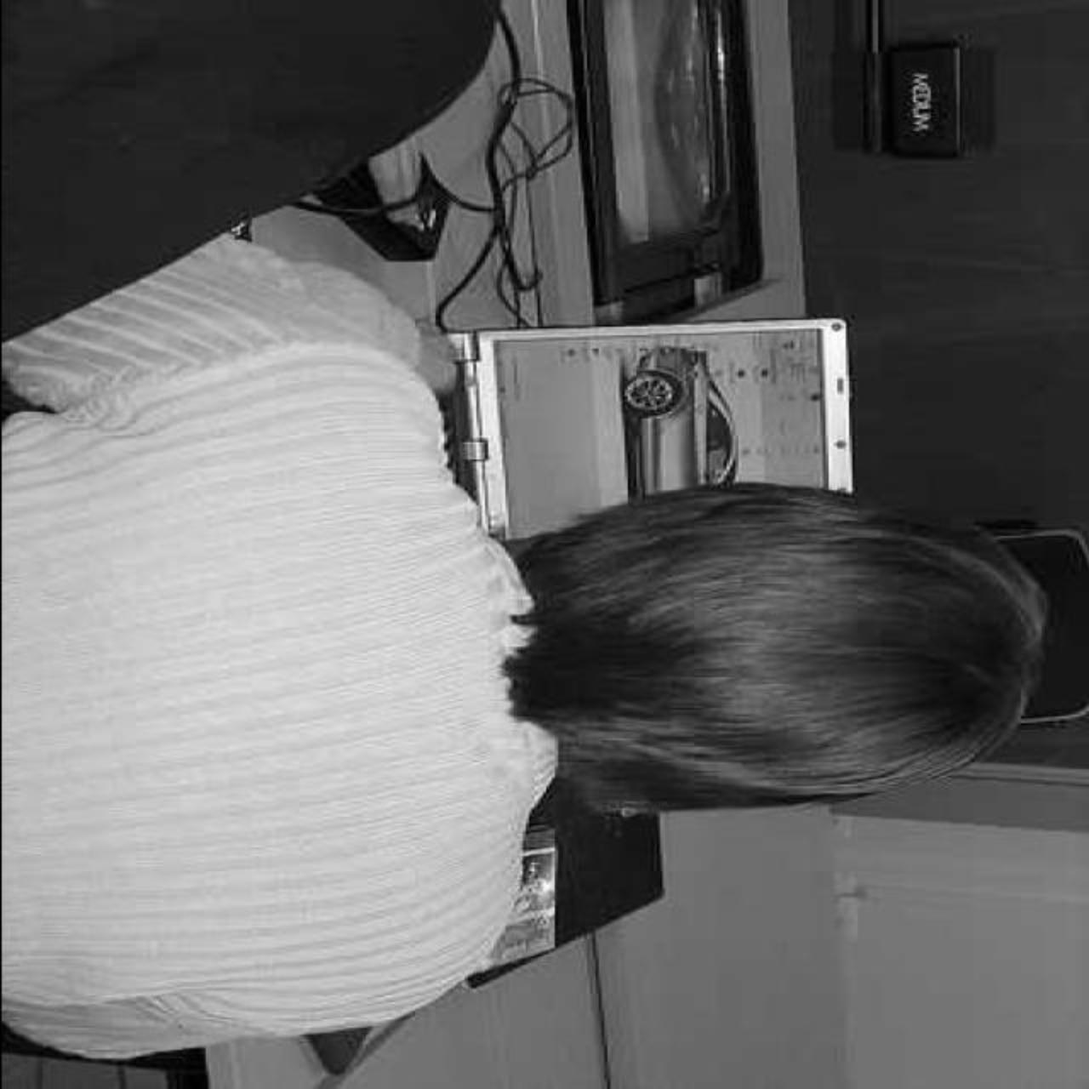laptop: (437, 313, 849, 749)
